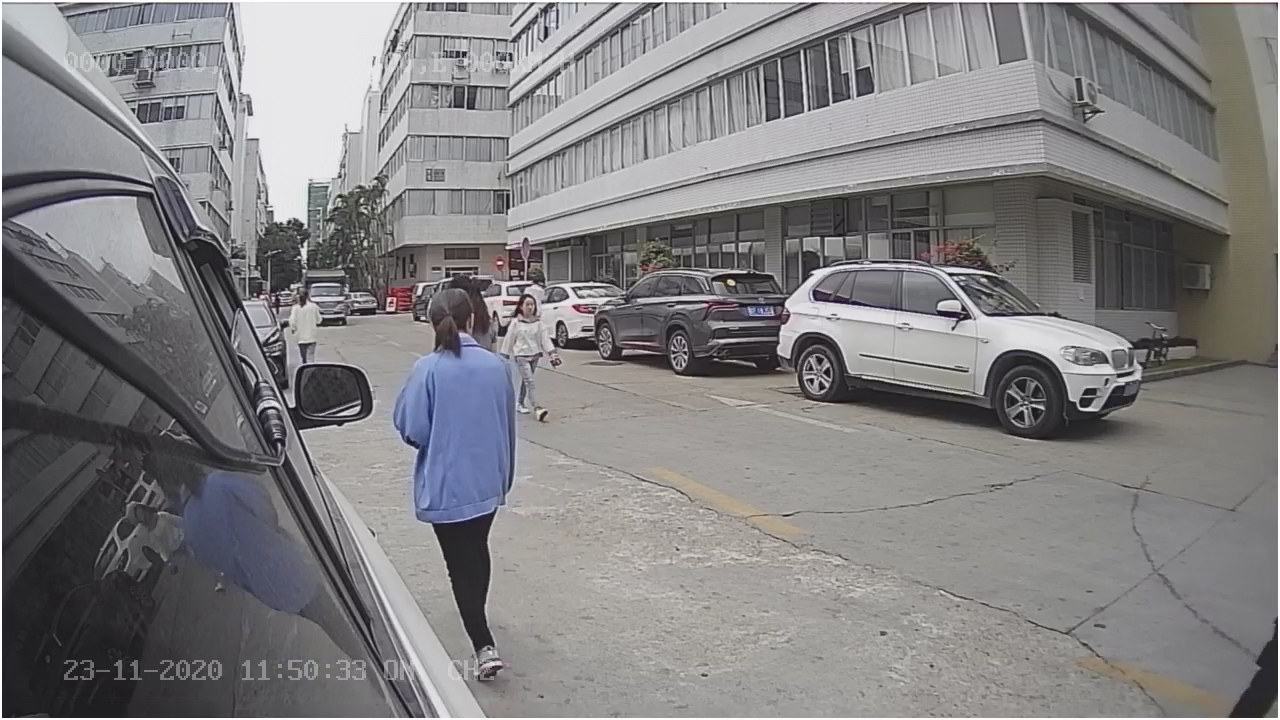person: (389, 287, 520, 471)
